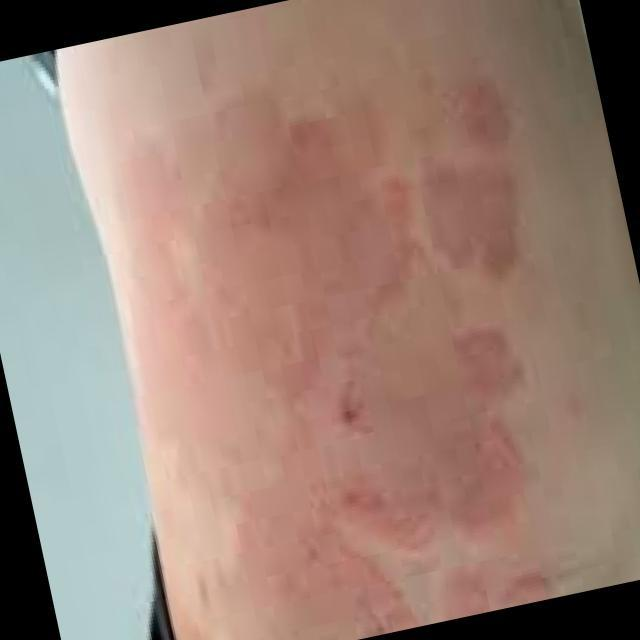Eczema: (125, 62, 544, 640)
